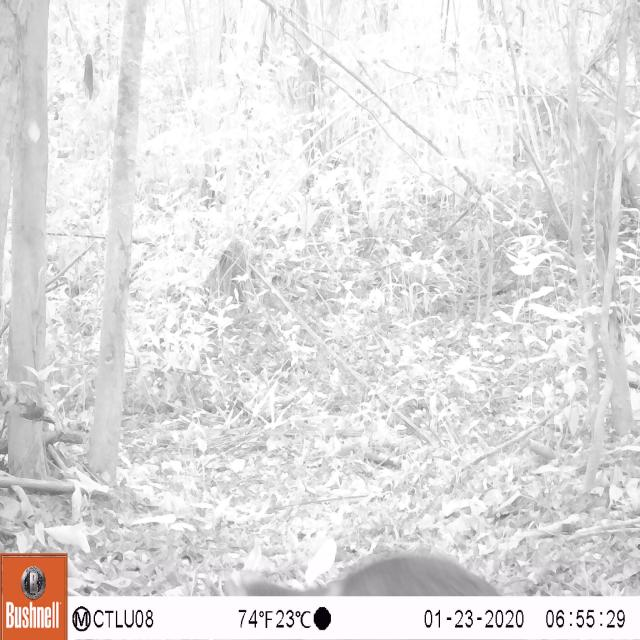Black Agouti: (311, 538, 506, 596)
